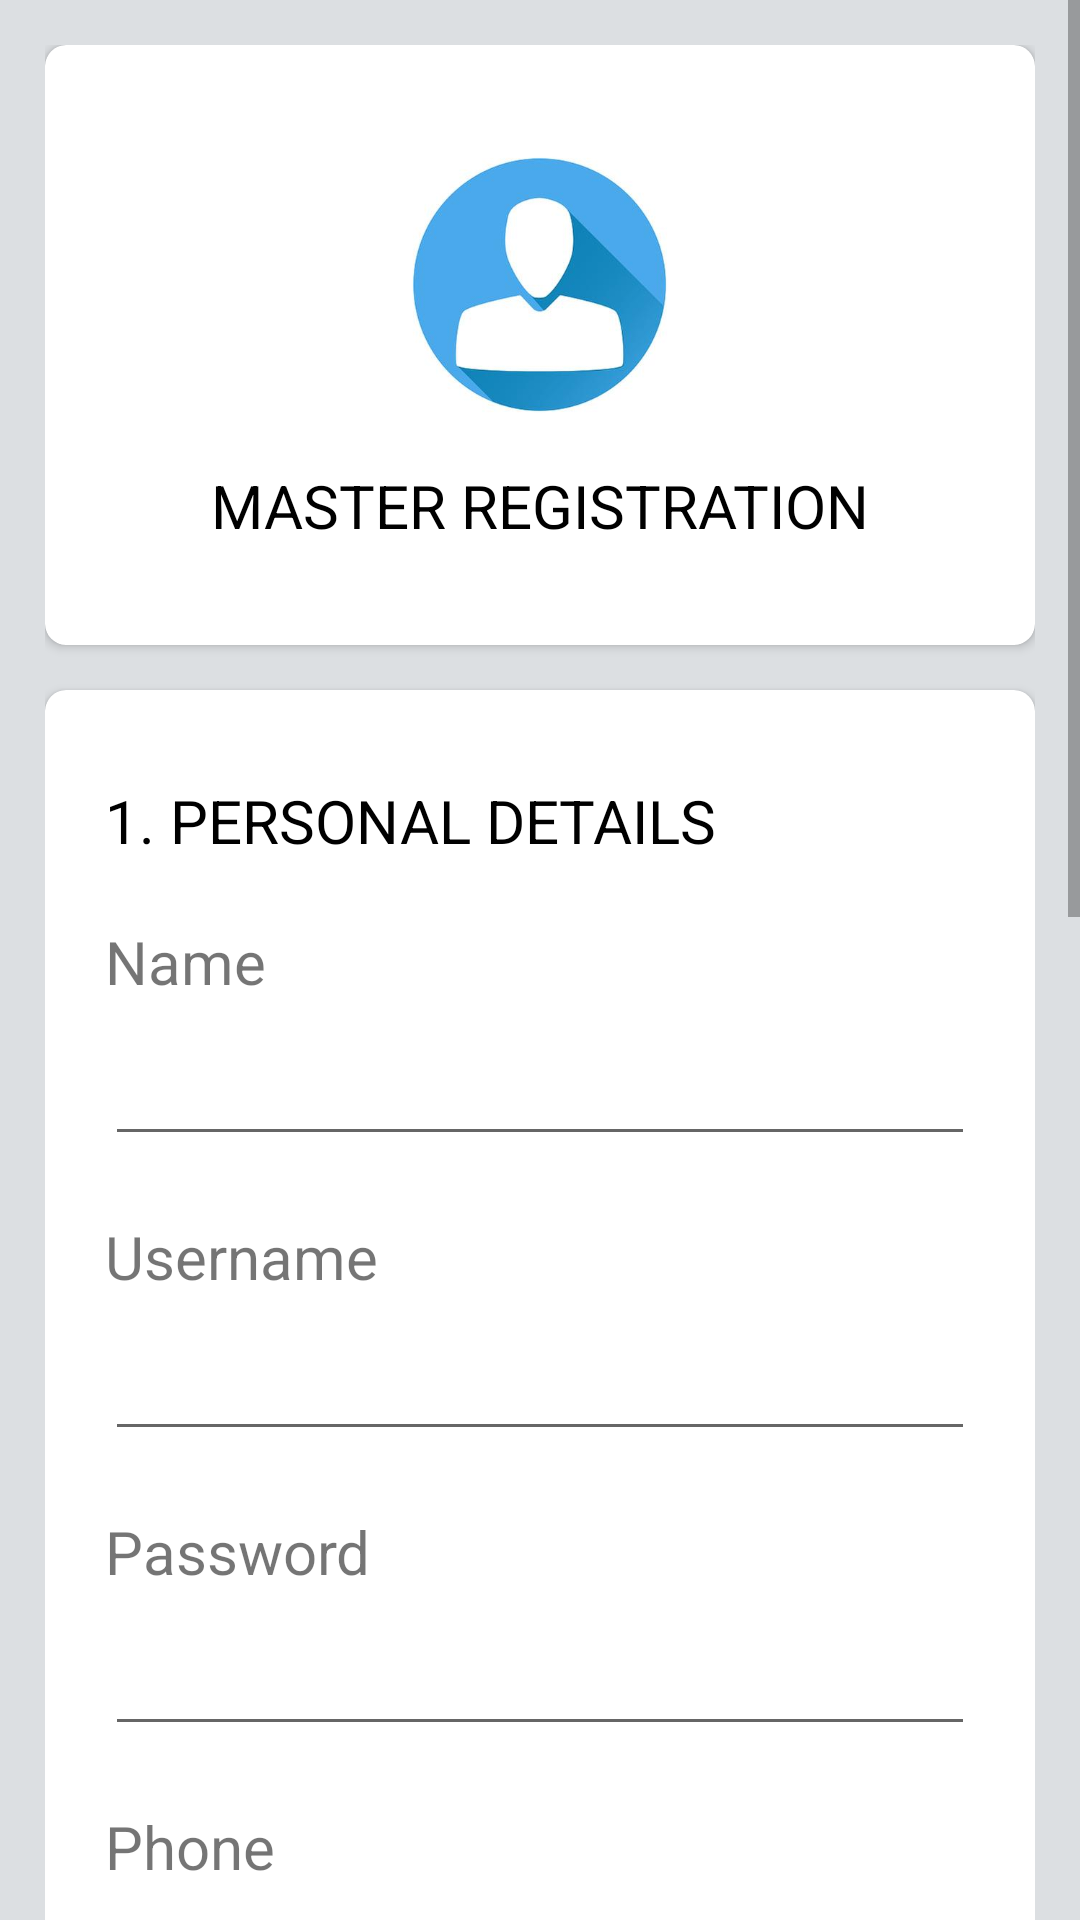

Named icons in this screenshot (1080*1920) and their bounding boxes, (x1, y1, x2, y2):
user: (413, 158, 666, 412)
